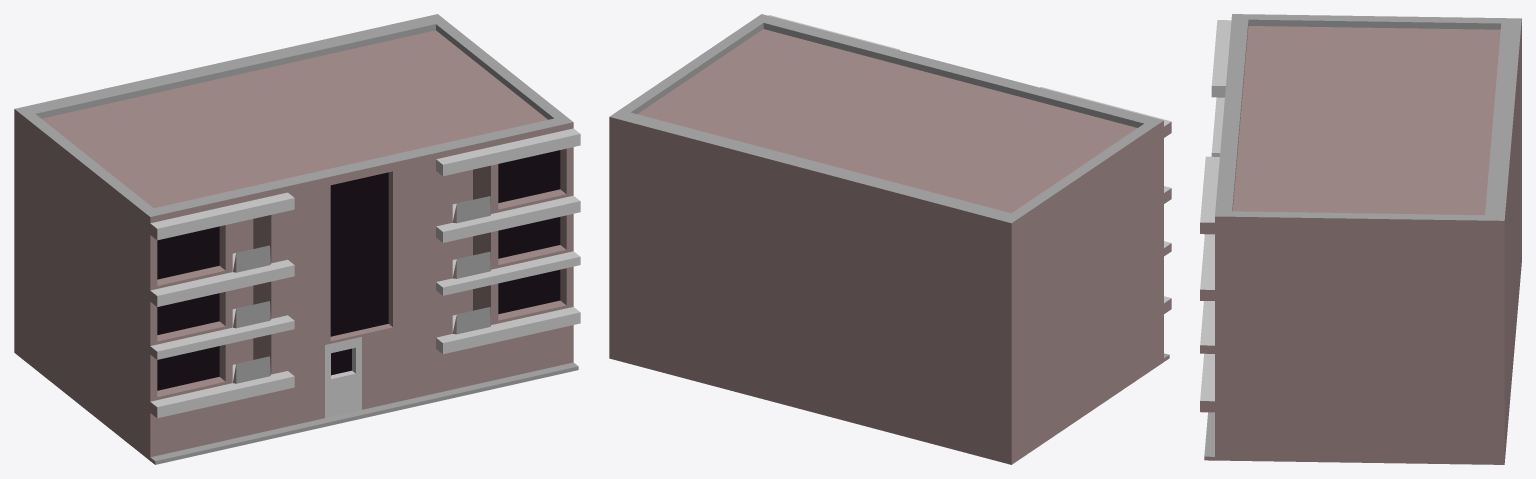
Rendered from APARTMENT_REDUCED.fbx.
3 renders of one model, left to right at view 1: azimuth 30°, elevation 25°; view 2: azimuth 150°, elevation 25°; view 3: azimuth 270°, elevation 25°, orthographic.
Parts seen in each view (by area): view 1: APARTMENT SOLO; view 2: APARTMENT SOLO; view 3: APARTMENT SOLO.
Boxes of the visible parts, bbox=[...] form: APARTMENT SOLO: bbox=[14, 14, 580, 464]; APARTMENT SOLO: bbox=[609, 14, 1171, 464]; APARTMENT SOLO: bbox=[1200, 14, 1521, 464].
Bounding box in the file's own units: 6604 × 3629 × 4335.
